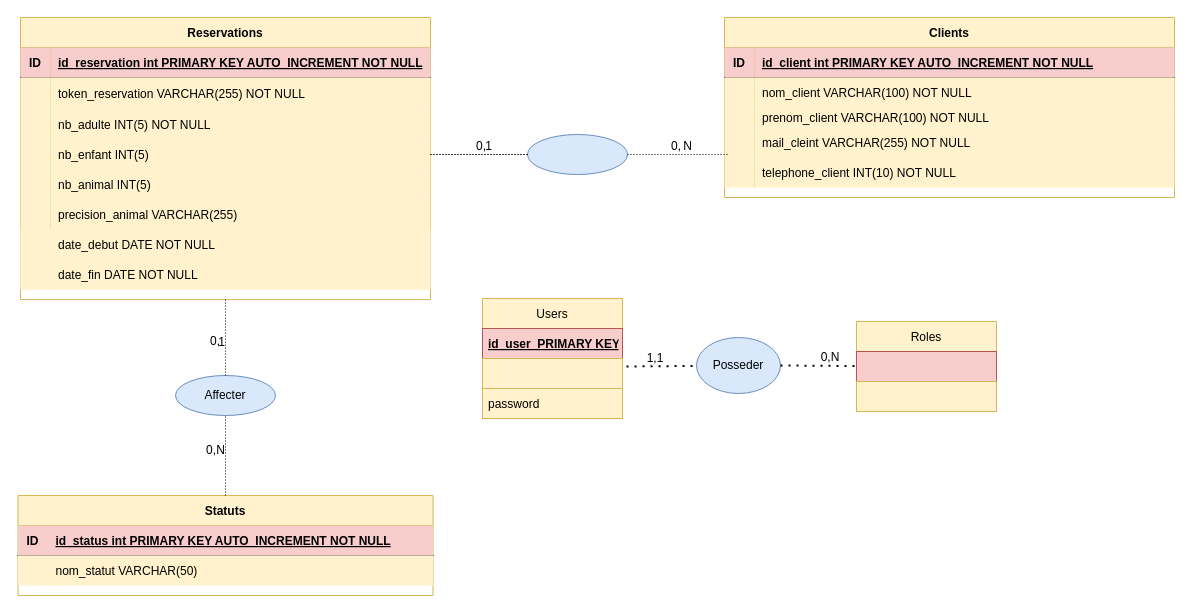
Some shapes in this 1192 by 613 pixel diagram are drawn without their labels. The shapes that lost their labels are listed below. From the top down, each one's centre as x and y in pixels, then its label:
At [577,154]: "Ajouter".
At [552,373]: "username".
At [926,366]: "id_roles PRIMARY KEY AUTO_INCREMENT NOT NULL".
At [926,396]: "role_name".
